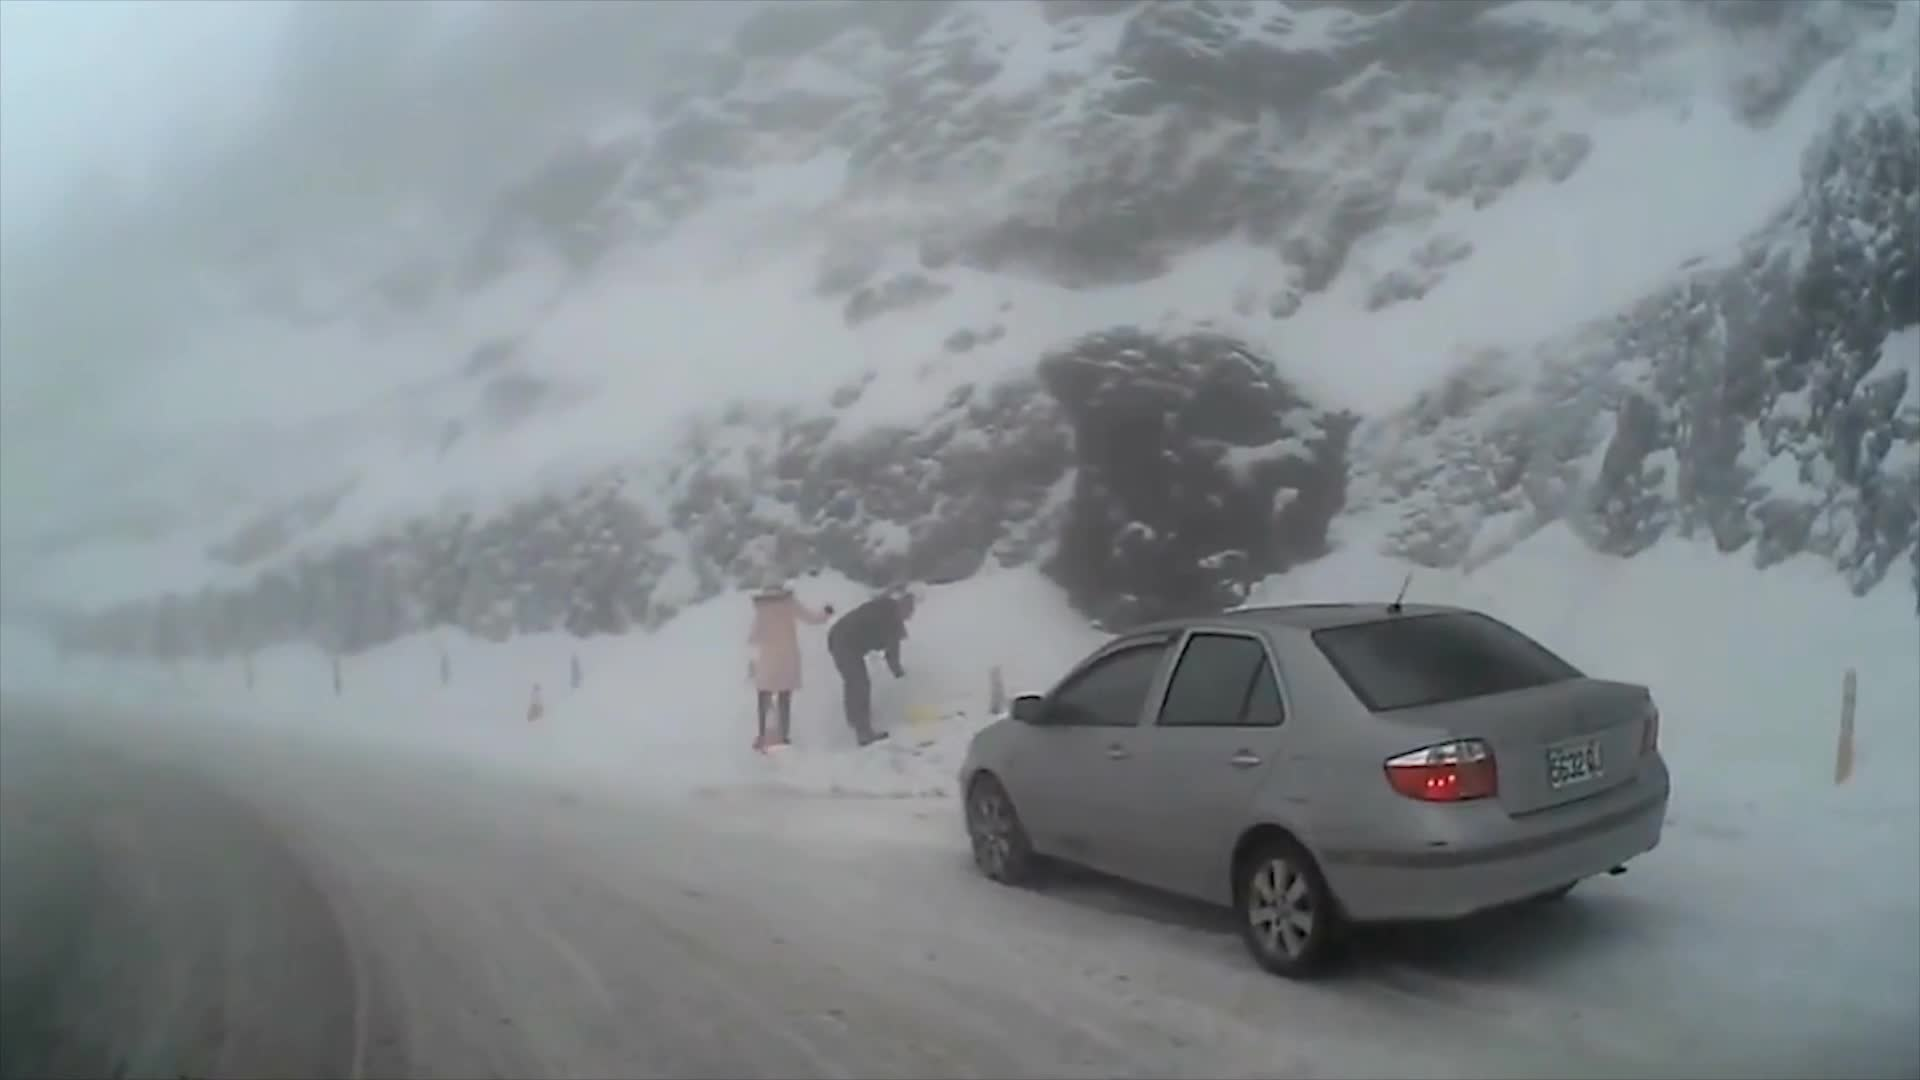pedestrian: (740, 571, 834, 746), (829, 594, 918, 744)
vehicle: (961, 601, 1670, 984)
